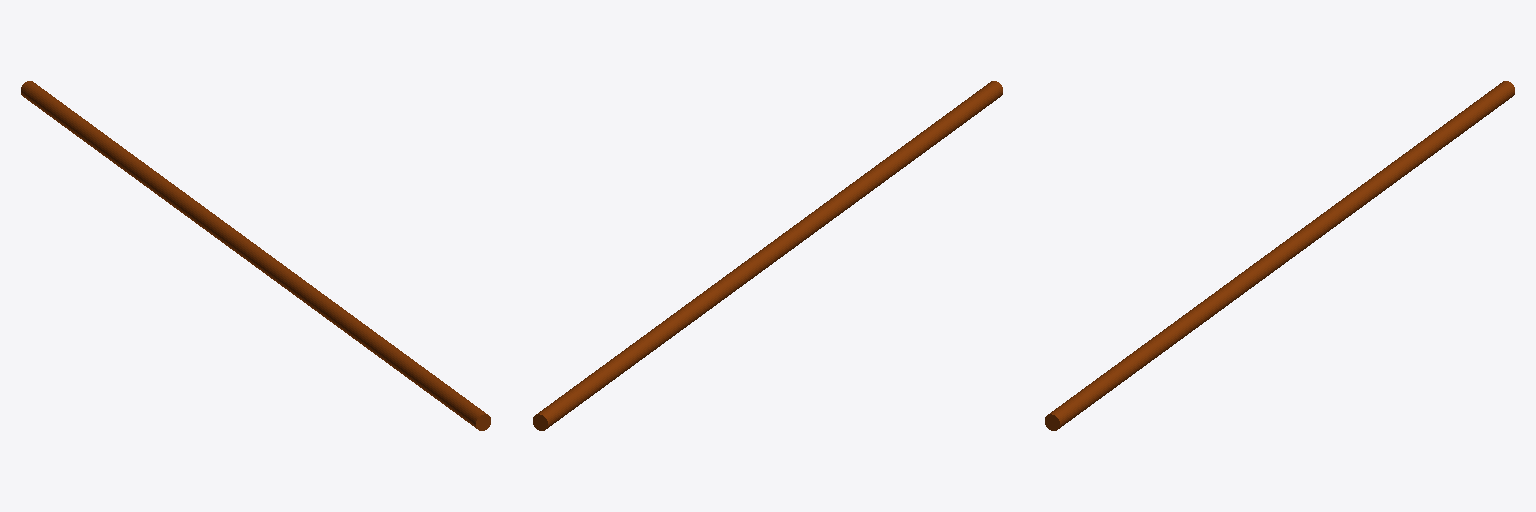
URDF robot description (cylinder):
<?xml version="1.0" ?>
<!-- =================================================================================== -->
<!-- |    This document was autogenerated by xacro from cylinder.xacro                 | -->
<!-- |    EDITING THIS FILE BY HAND IS NOT RECOMMENDED                                 | -->
<!-- =================================================================================== -->
<robot name="cylinder">
  <link name="world"/>
  <link name="base">
    <visual>
      <origin rpy="1.57079633 0 0" xyz="0 0 0"/>
      <geometry>
        <cylinder length="7.07106781185" radius="0.07"/>
      </geometry>
      <material name="cylinder_material">
        <color rgba="0.545 0.271 0.075 1.0"/>
        <texture filename="../textures/tree_bark.jpg"/>
      </material>
    </visual>
    <collision>
      <origin rpy="1.57079633 0 0" xyz="0 0 0"/>
      <geometry>
        <cylinder length="7.07106781185" radius="0.07"/>
      </geometry>
    </collision>
    <inertial>
      <origin rpy="0 0 0" xyz="0 0 0"/>
      <mass value="1"/>
      <inertia ixx="4.167891666648428" ixy="0.0" ixz="0.0" iyy="4.167891666648428" iyz="0.0" izz="24.999999999890573"/>
    </inertial>
  </link>
  <joint name="base_joint" type="fixed">
    <parent link="world"/>
    <child link="base"/>
    <origin rpy="0 0 0" xyz="0.0 0.0 0.0"/>
  </joint>
</robot>

--- Facts derived from the render (not from the file) ---
3 views of the same robot in one strip: view 1: azimuth 30°, elevation 25°; view 2: azimuth 150°, elevation 25°; view 3: azimuth 330°, elevation 25° (orthographic).
Robot: cylinder — 2 links, 1 joints (1 fixed); root link world; default pose: all joints at 0.
Visible links, largest first — view 1: base; view 2: base; view 3: base.
Boxes of the visible links, bbox=[...] form: base: bbox=[21, 81, 490, 430]; base: bbox=[533, 81, 1002, 430]; base: bbox=[1045, 81, 1514, 430].
Bounding box of the posed robot: 0.14 × 7.07 × 0.14 m (x, y, z).
Geometry: primitives only (box / cylinder / sphere), no mesh files.
